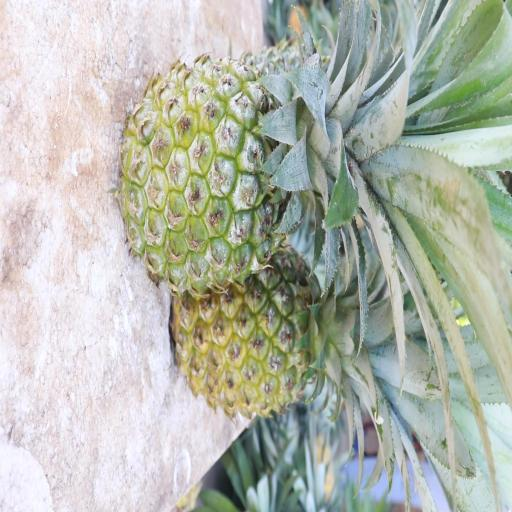------------------------------: (114, 52, 386, 302)
Pineapple - v8 v1: (165, 232, 401, 426)
